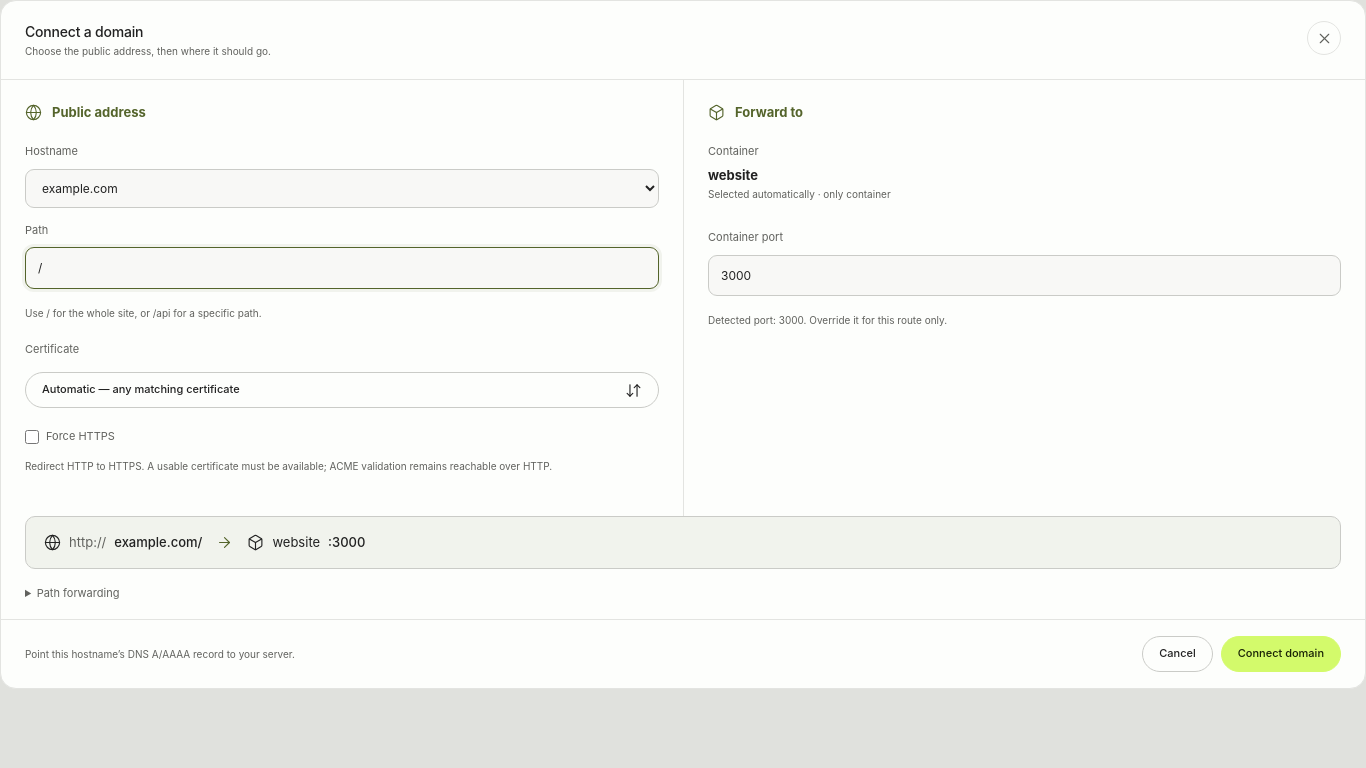
it: domain routing editor › keeps entered values and shows a failed save without closing the editor
Step 1. Click the button "Connect domain" → (1281, 654), box [1221,636,1341,672]
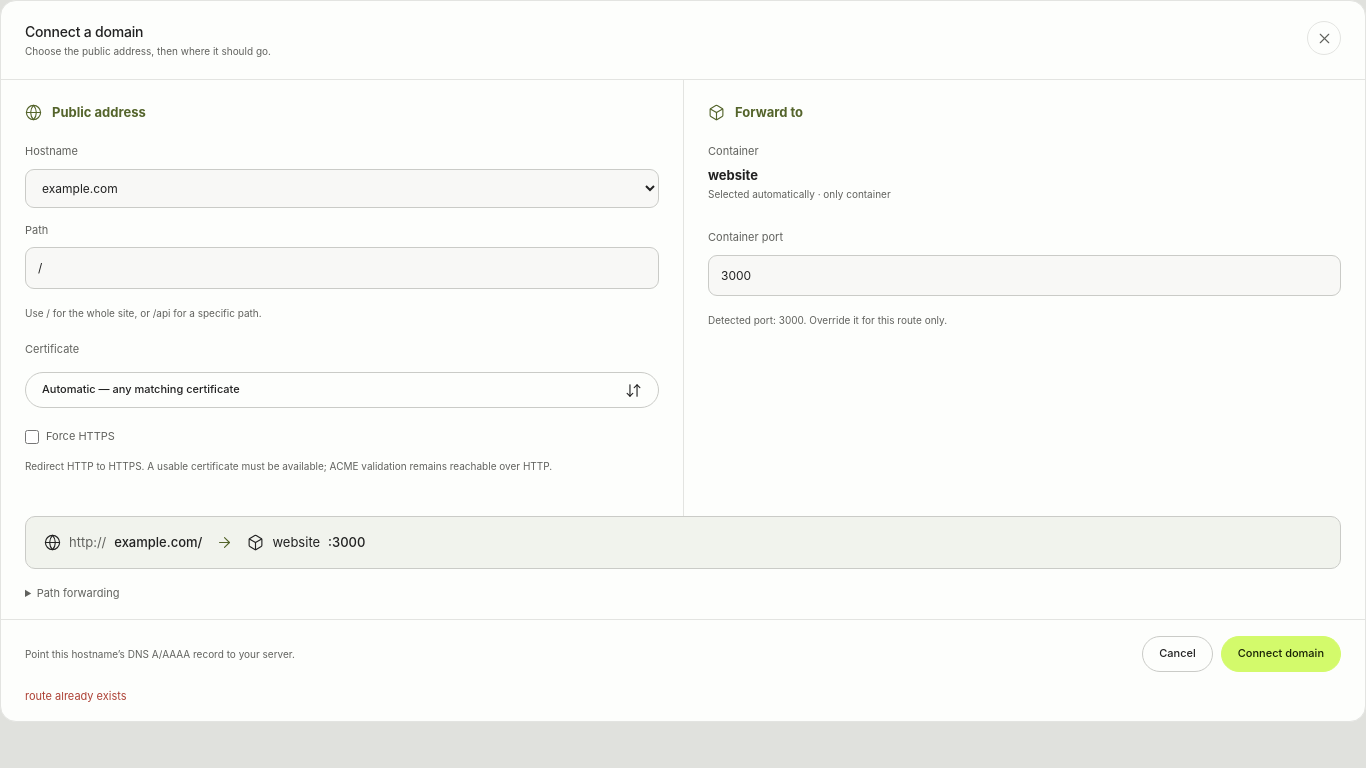
Expected: the number field labelled "Container port" holds "3000", [708,255,1341,296]
Now the message reads "route already exists", box [25,688,127,702]
